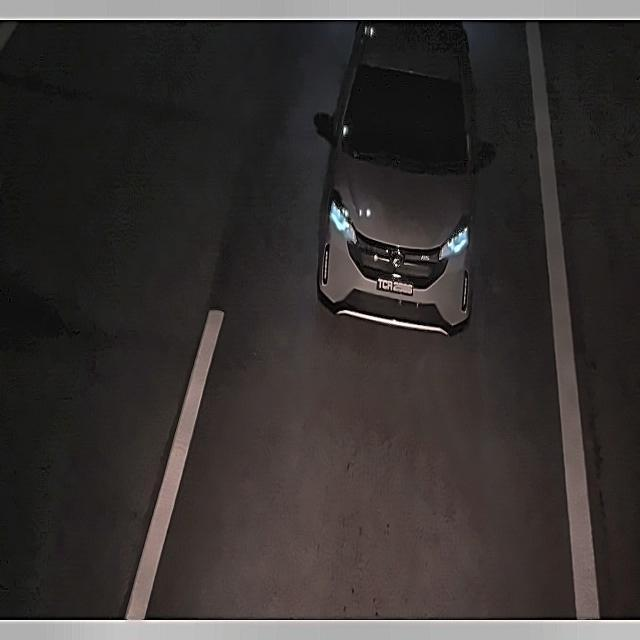car: (374, 265, 420, 308)
